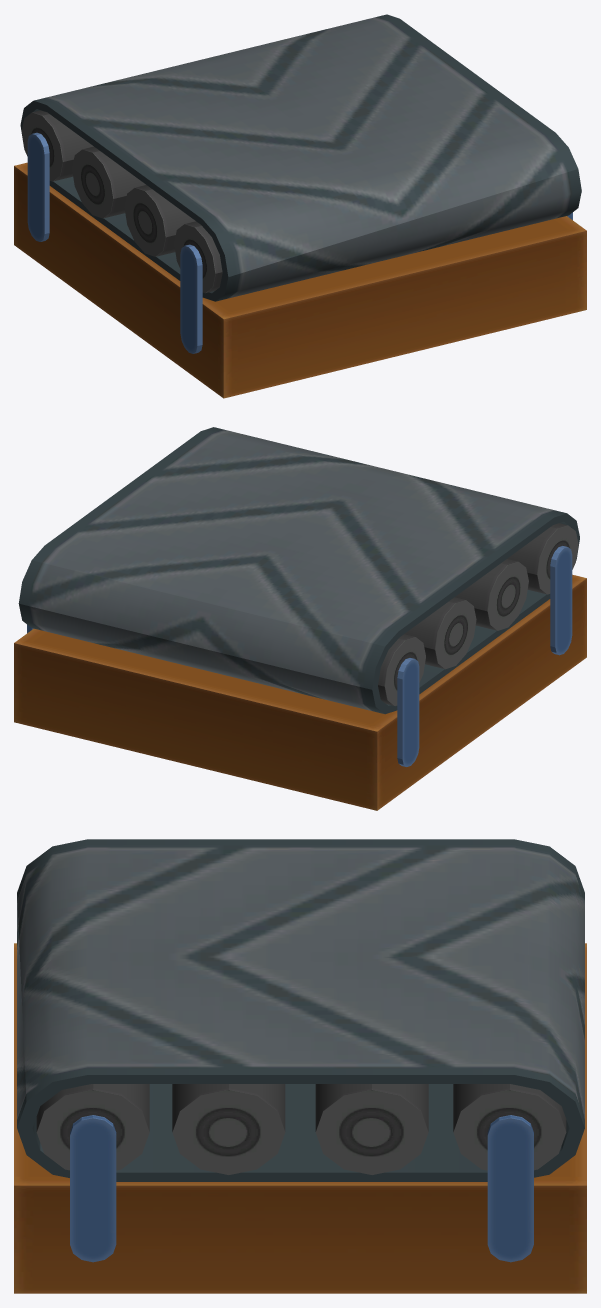
Rendered from ConveyorBelt.glb.
The picture shows the model from 3 angles, top to bottom: view 1: azimuth 30°, elevation 25°; view 2: azimuth 150°, elevation 25°; view 3: azimuth 270°, elevation 25°; orthographic projection. The views are drawn at different scales.
Parts seen in each view (by area): view 1: ConveyorBelt; view 2: ConveyorBelt; view 3: ConveyorBelt.
Part boxes in pixels (left/top/right/bottom): ConveyorBelt: left=14, top=14, right=586, bottom=398; ConveyorBelt: left=14, top=427, right=586, bottom=810; ConveyorBelt: left=14, top=839, right=586, bottom=1293.
Size of the model in its own units: 1.24 by 0.4995 by 1.2.
2 materials, 2 textured.
